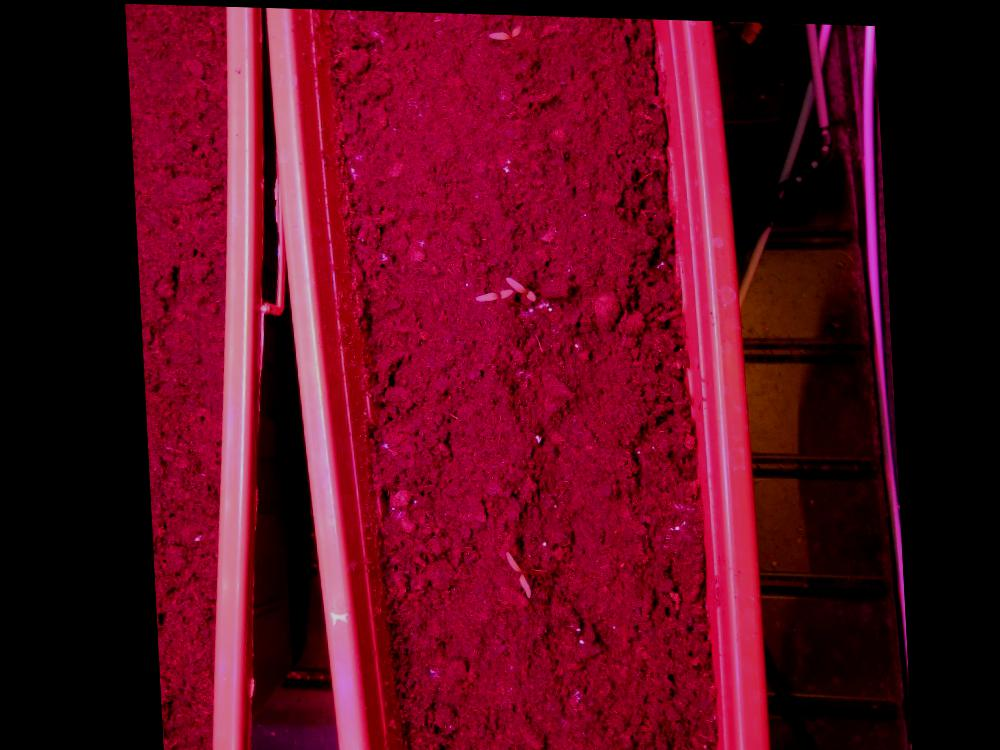crop: (497, 548, 525, 598), (470, 285, 511, 302), (485, 22, 523, 38)
